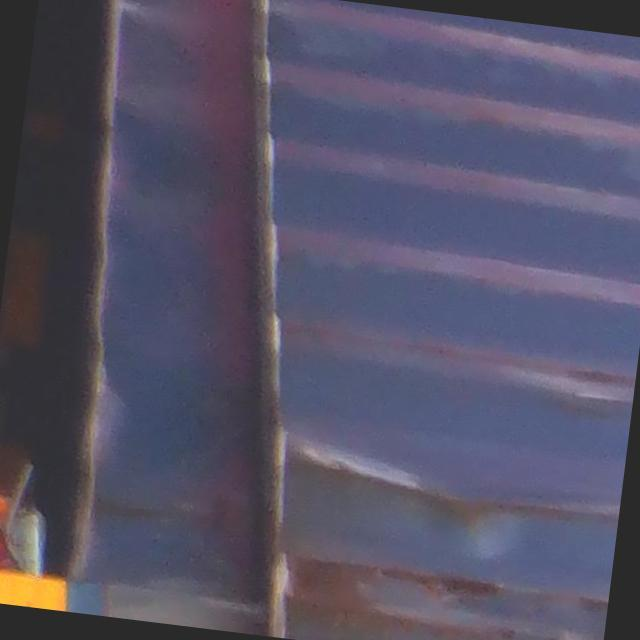rust: (262, 377, 631, 640)
